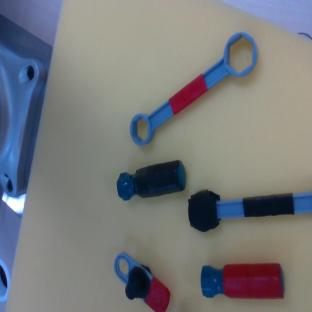part_1_good: (101, 250, 180, 312)
part_2_bad: (114, 158, 189, 203)
part_2_good: (201, 263, 284, 299)
part_3_good: (117, 27, 267, 150)
